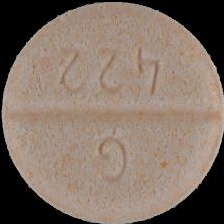50268-565: (0, 0, 224, 224)
